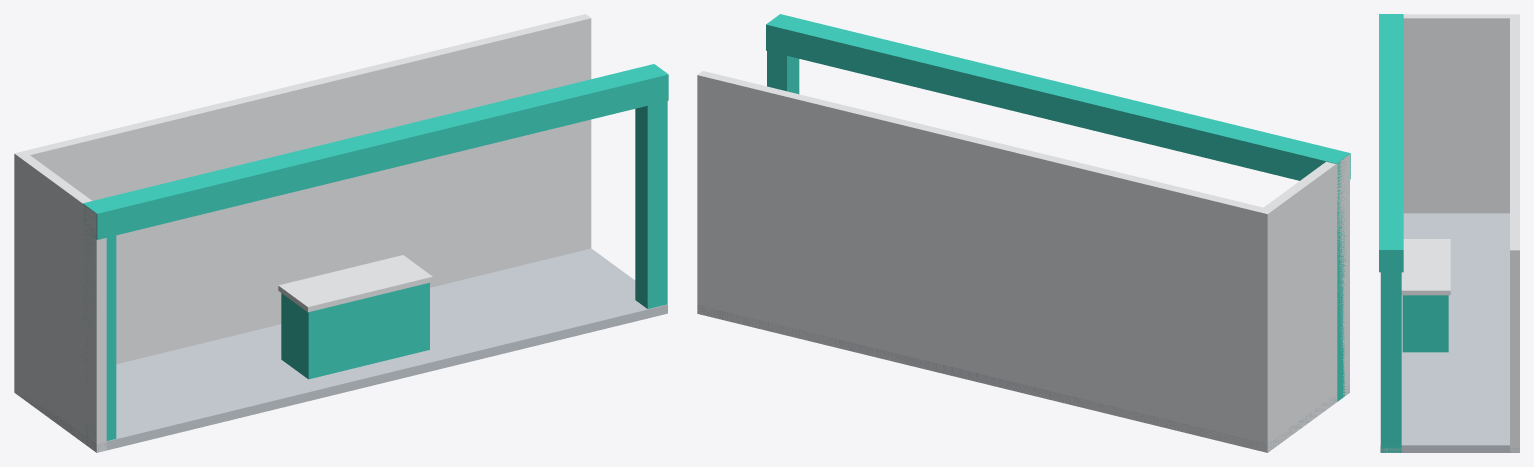
3 views of the same model, side by side, from view 1: azimuth 30°, elevation 25°; view 2: azimuth 150°, elevation 25°; view 3: azimuth 270°, elevation 25° (orthographic). The views are drawn at different scales.
Visible parts, largest first — view 1: Exhibition Booth Concept; view 2: Exhibition Booth Concept; view 3: Exhibition Booth Concept.
Part boxes in pixels (x1,y1,x2,y2): Exhibition Booth Concept: (14,14,668,452); Exhibition Booth Concept: (697,14,1350,452); Exhibition Booth Concept: (1379,14,1519,452).
Bounding box in the file's own units: 8 × 3.2 × 2.01.
